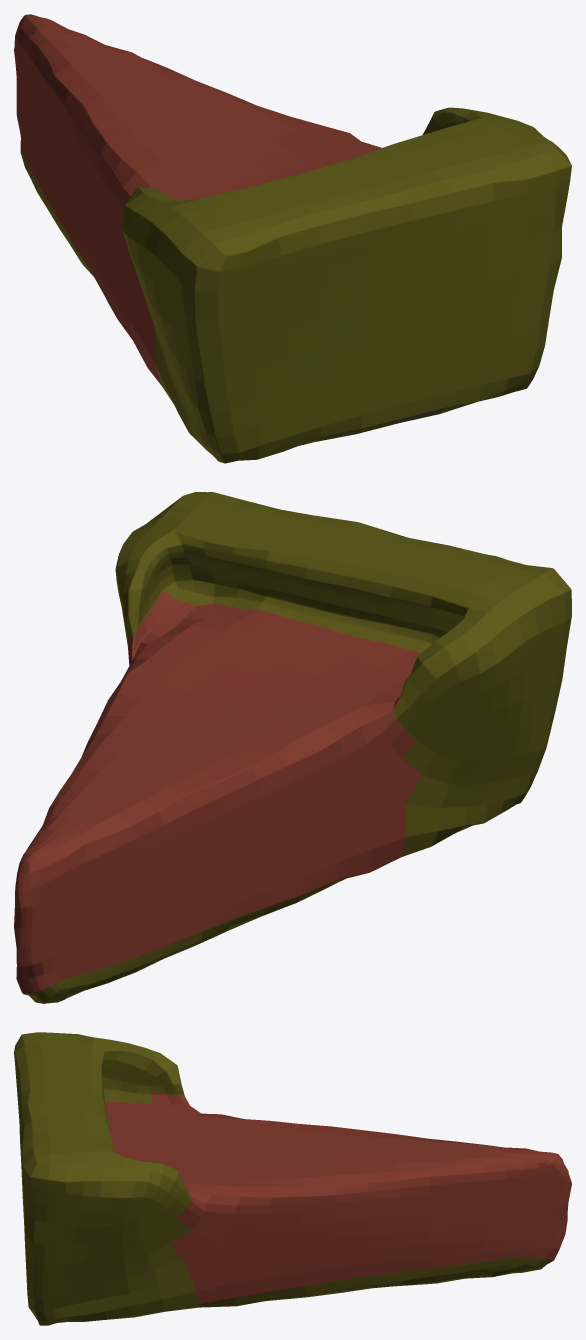
The model's file is Pizza_Slice_Model.fbx.
The picture shows the model from 3 angles, top to bottom: view 1: azimuth 30°, elevation 25°; view 2: azimuth 150°, elevation 25°; view 3: azimuth 270°, elevation 25°; orthographic projection. The views are drawn at different scales.
Parts seen in each view (by area): view 1: pCylinder1; view 2: pCylinder1; view 3: pCylinder1.
Boxes of the visible parts, x1,y1,x2,y2 form: pCylinder1: [14, 14, 571, 463]; pCylinder1: [14, 492, 571, 1003]; pCylinder1: [14, 1032, 571, 1325].
Bounding box in the file's own units: 5.32 × 3.02 × 8.61.
